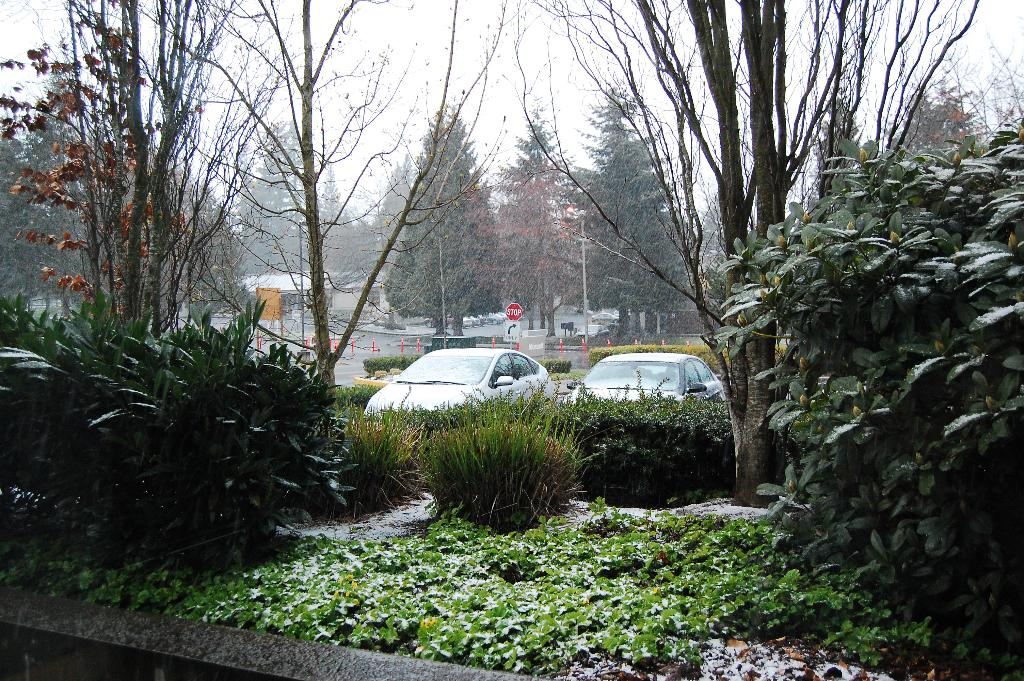cars: (360, 339, 566, 412), (566, 352, 733, 401), (579, 324, 609, 337)
